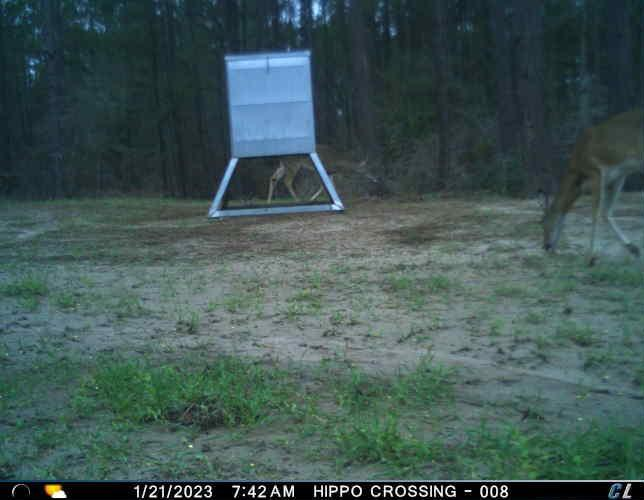Deer: (534, 102, 644, 267), (264, 144, 376, 205)
